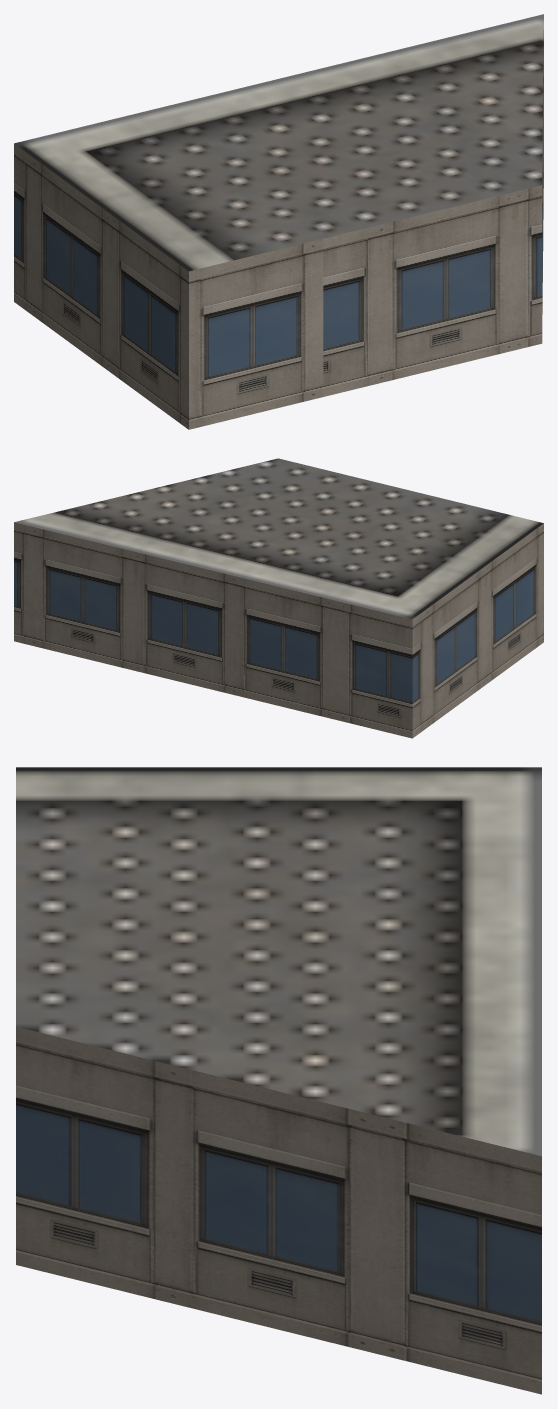
File: building_light_a_12.glb
3 renders of one model, top to bottom at view 1: azimuth 30°, elevation 25°; view 2: azimuth 150°, elevation 25°; view 3: azimuth 270°, elevation 25°, orthographic. The views are drawn at different scales.
Visible parts, largest first — view 1: buildings/saxarba/building_light/building_light_a_12; view 2: buildings/saxarba/building_light/building_light_a_12; view 3: buildings/saxarba/building_light/building_light_a_12.
Part boxes in pixels (left/top/right/bottom): buildings/saxarba/building_light/building_light_a_12: left=14, top=14, right=543, bottom=429; buildings/saxarba/building_light/building_light_a_12: left=14, top=458, right=543, bottom=738; buildings/saxarba/building_light/building_light_a_12: left=16, top=767, right=541, bottom=1394.
Size of the model in its own units: 63 by 18 by 36.
